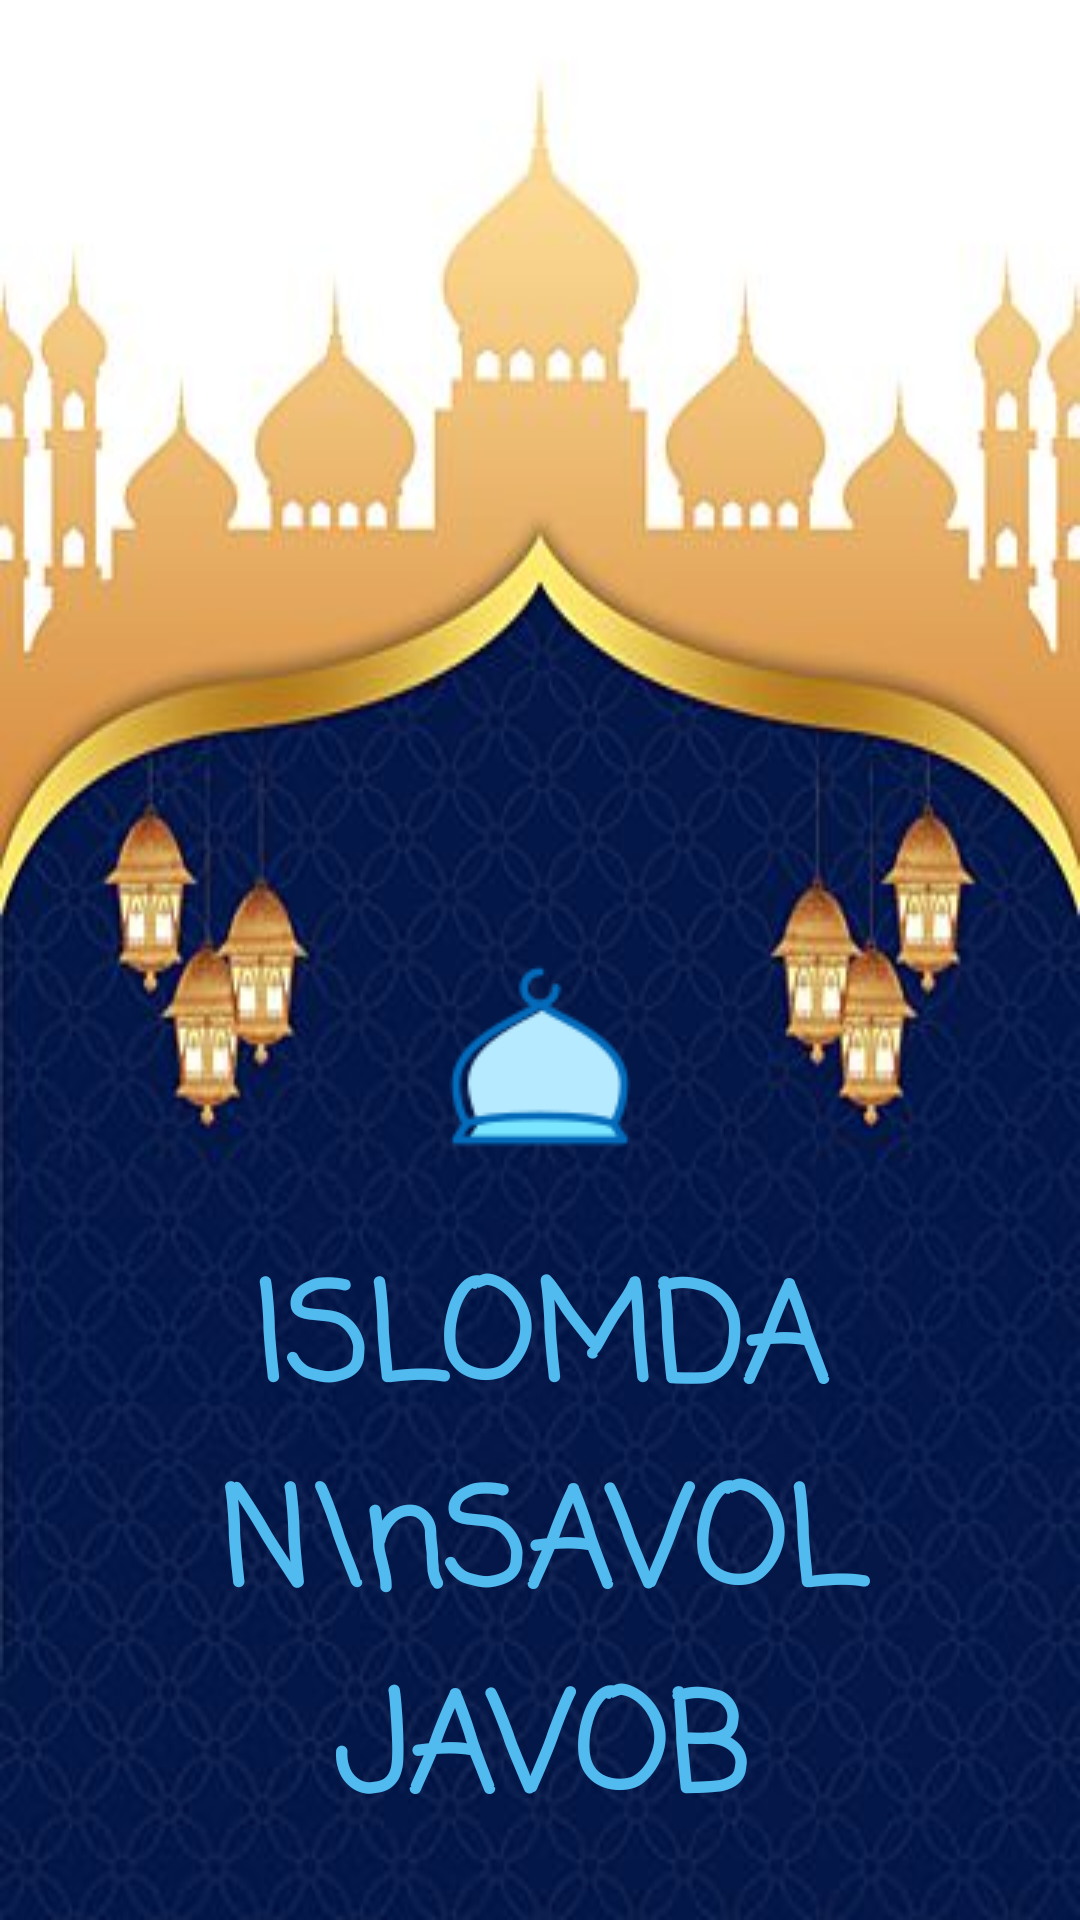

Where to tap for icons on this 1080×1920 app screen, as [x,y]:
islam: [540,1056]
